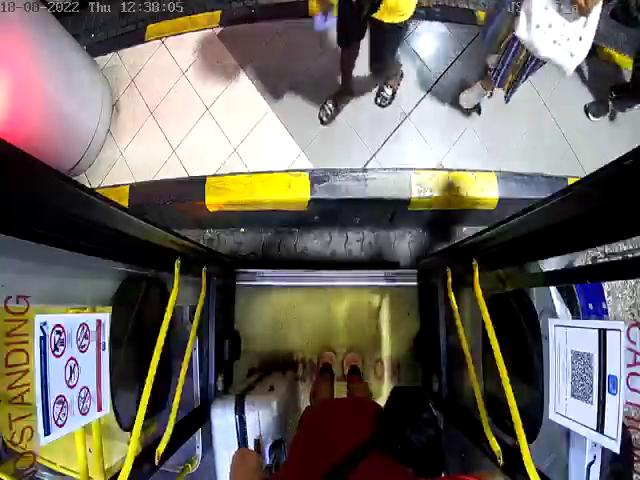open: (0, 0, 640, 162)
